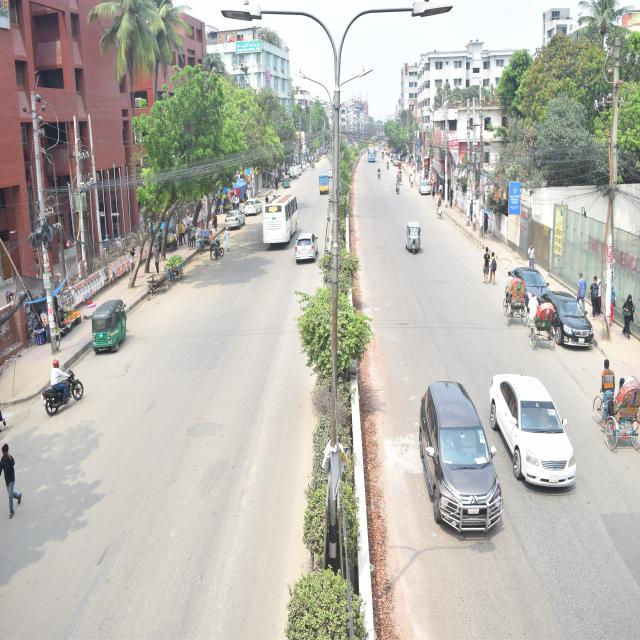bus: (264, 188, 304, 271), (358, 145, 382, 165)
car: (488, 347, 606, 526), (405, 373, 515, 540), (534, 267, 607, 369), (497, 241, 553, 323), (416, 167, 454, 223), (290, 228, 330, 278), (216, 193, 252, 238), (238, 184, 266, 223), (320, 160, 338, 188)
motorbike: (32, 354, 114, 436), (203, 223, 231, 274), (369, 170, 384, 187), (394, 176, 401, 199), (385, 160, 396, 174)
pickup-van: (314, 169, 336, 211)
